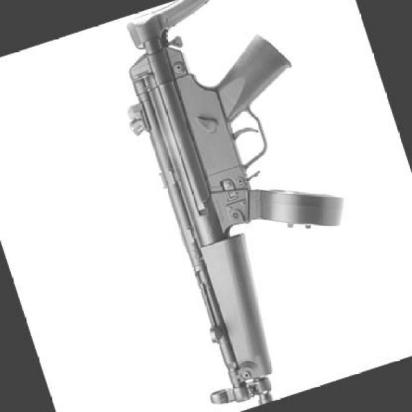Gun: (69, 0, 392, 412)
